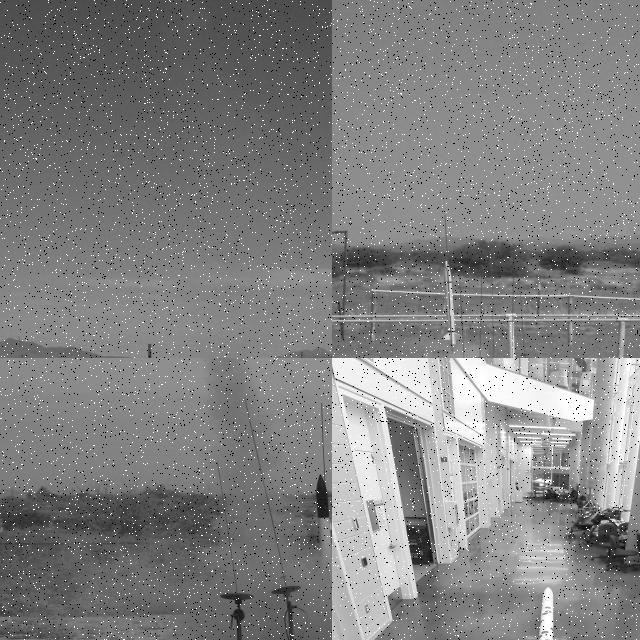Rocket: (308, 473, 332, 582), (439, 260, 464, 346), (538, 587, 554, 640)
